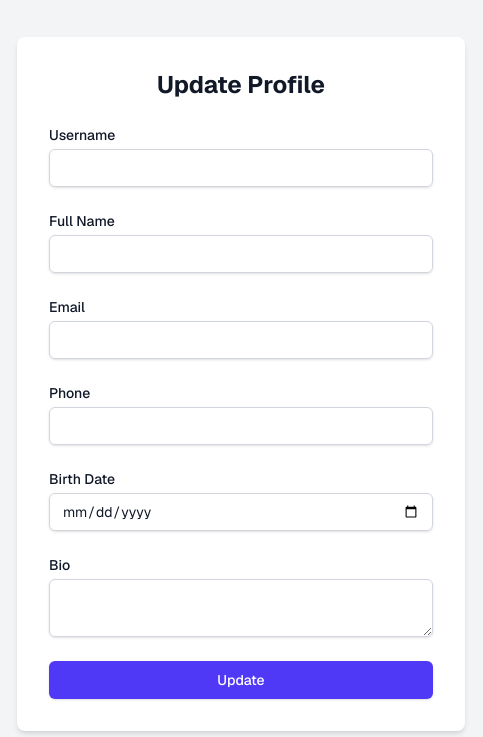
Scenario: ProfilePage › shows error if full name is only whitespace
The width and height of the screenshot is (483, 737).
Click the button "Update" at point(241, 680), box [49, 661, 433, 699]
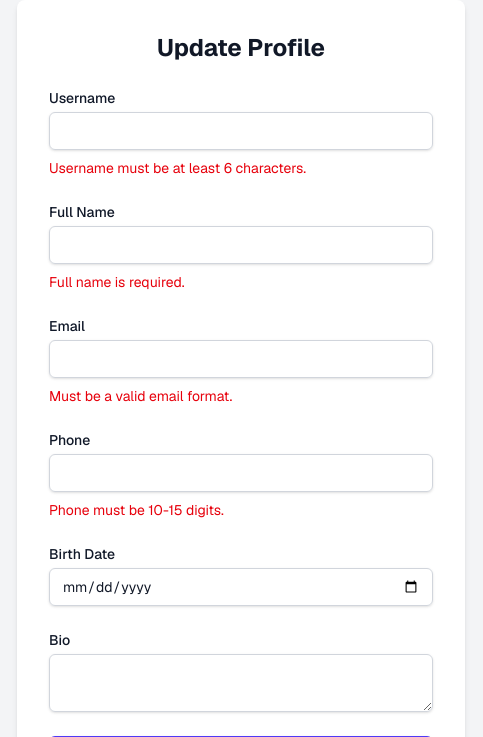
Now the text "Full name is required." is shown, box [49, 273, 185, 291]
